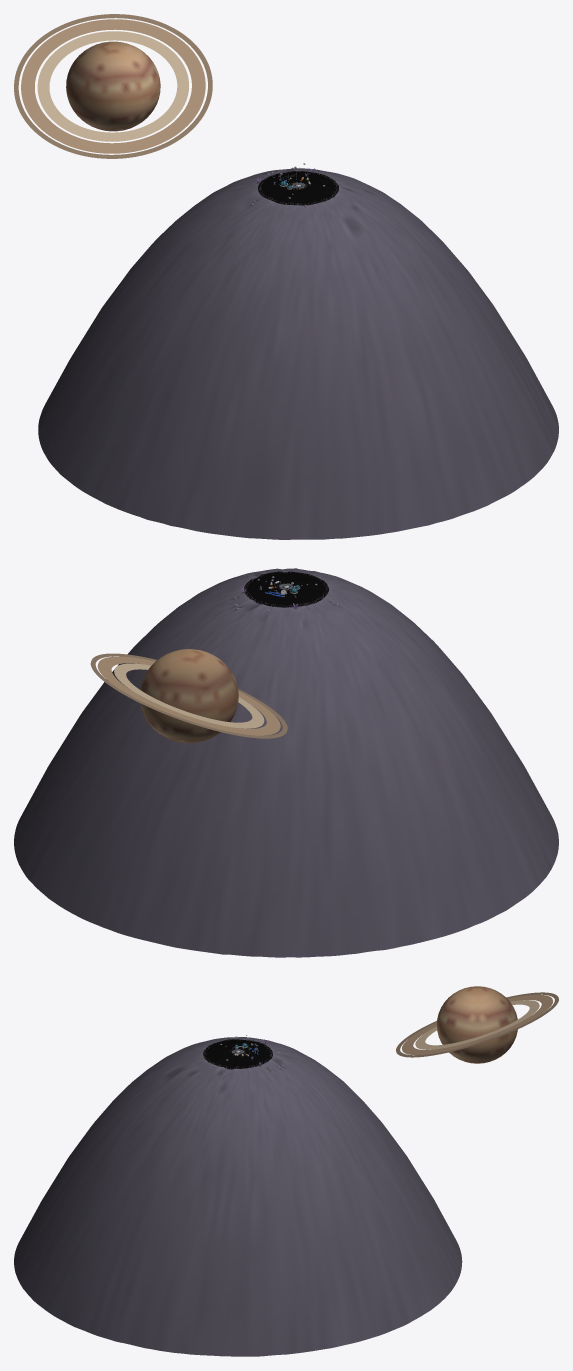
The model's file is era5.glb.
3 renders of one model, top to bottom at view 1: azimuth 30°, elevation 25°; view 2: azimuth 150°, elevation 25°; view 3: azimuth 270°, elevation 25°, orthographic. The views are drawn at different scales.
Visible parts, largest first — view 1: terrain, planet.001, grassmap; view 2: terrain, planet.001, grassmap; view 3: terrain, planet.001, grassmap.
Part boxes in pixels (x1=…): terrain: x1=38, y1=168, x2=558, y2=539; planet.001: x1=14, y1=14, x2=212, y2=158; grassmap: x1=258, y1=171, x2=338, y2=205; terrain: x1=14, y1=568, x2=558, y2=957; planet.001: x1=90, y1=649, x2=287, y2=742; grassmap: x1=244, y1=571, x2=328, y2=607; terrain: x1=14, y1=1037, x2=462, y2=1356; planet.001: x1=396, y1=986, x2=558, y2=1063; grassmap: x1=203, y1=1039, x2=272, y2=1069.
Size of the model in its own units: 440 by 274 by 535.
